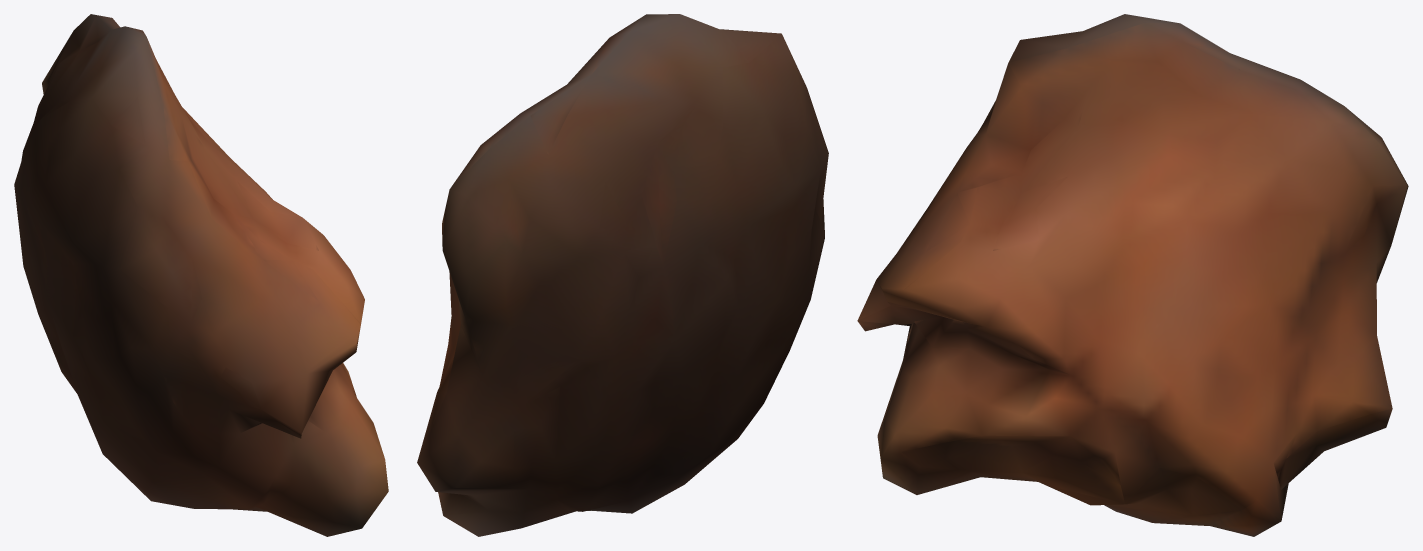
File: leather.glb
The picture shows the model from 3 angles, left to right: view 1: azimuth 30°, elevation 25°; view 2: azimuth 150°, elevation 25°; view 3: azimuth 270°, elevation 25°; orthographic projection. The views are drawn at different scales.
Visible parts, largest first — view 1: model; view 2: model; view 3: model.
Part boxes in pixels (x1,y1,x2,y2): model: (14,14,388,536); model: (417,14,828,536); model: (857,14,1408,536).
Size of the model in its own units: 0.2163 by 0.3756 by 0.4031.
Materials: 1 (1 with a texture image).
